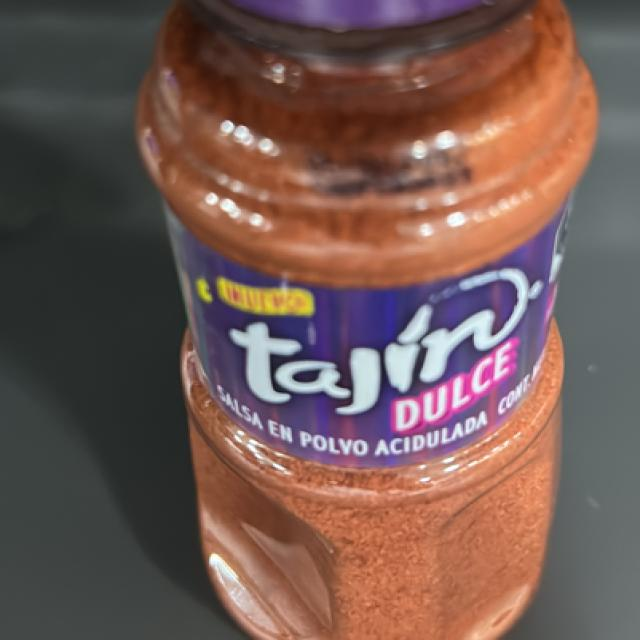tajinDulce: (163, 14, 556, 626)
